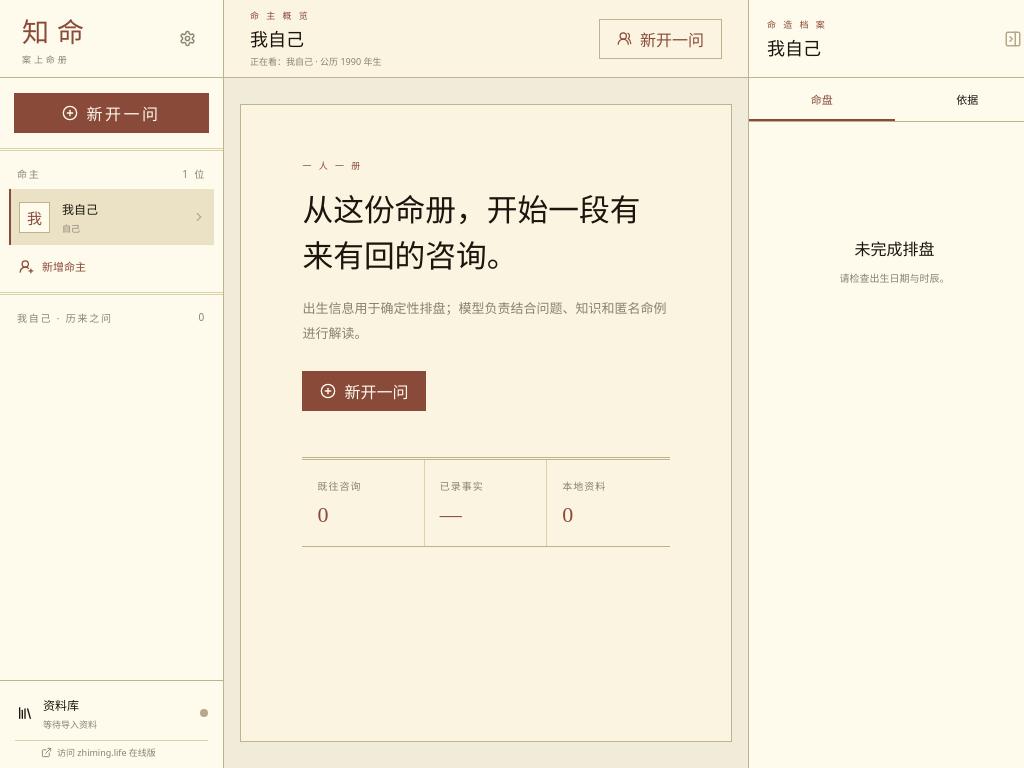
Test case: App › recovers from a failed consultation creation instead of staying busy
Click the button "新开一问" below "案上命册": coordinates (112, 113) [14,93,209,133]
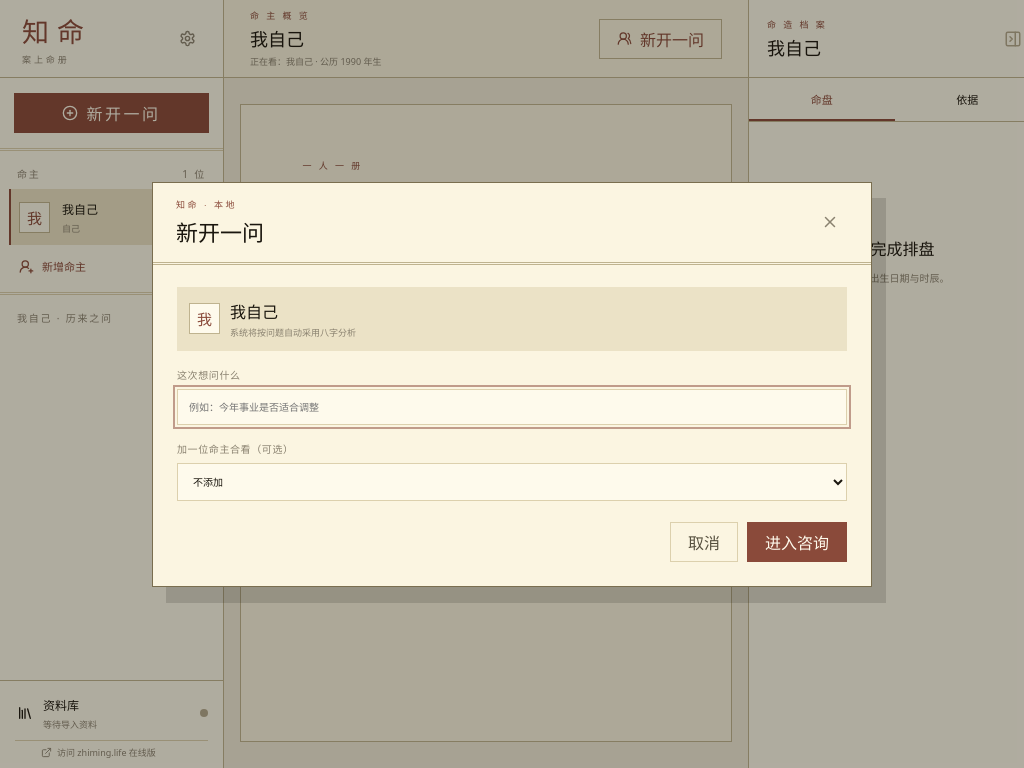
In the field labelled "这次想问什么": coordinates (512, 406) [177,388,847,424], type "事业调整"
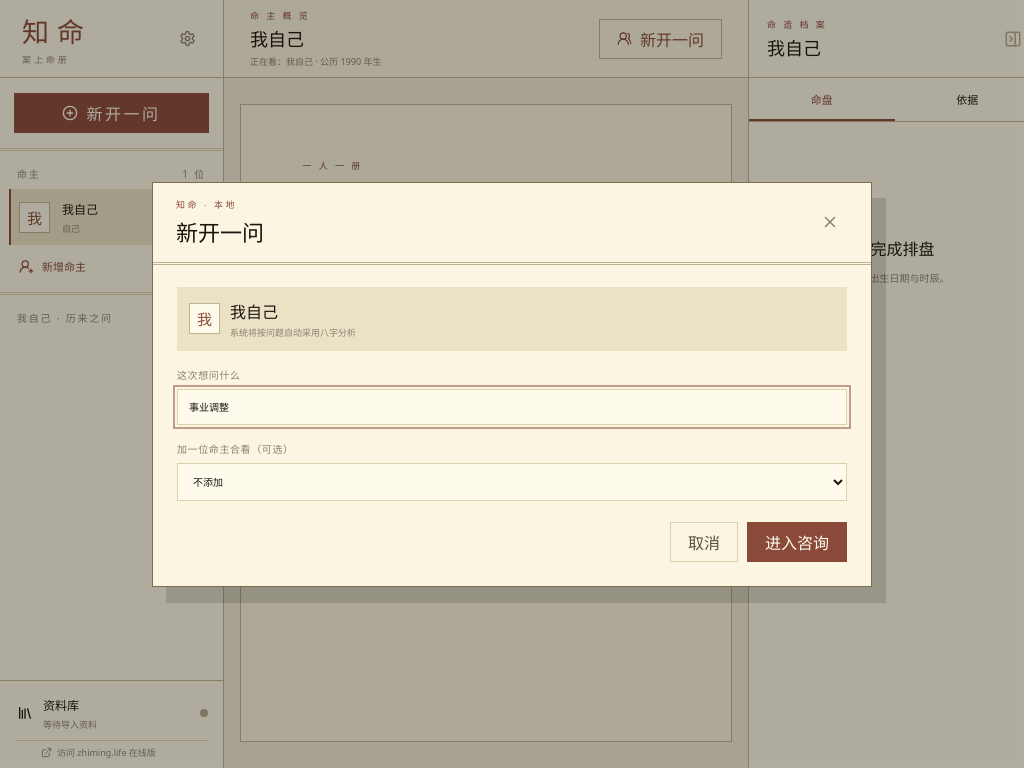
Click the button "进入咨询": coordinates (797, 542) [747,522,847,562]
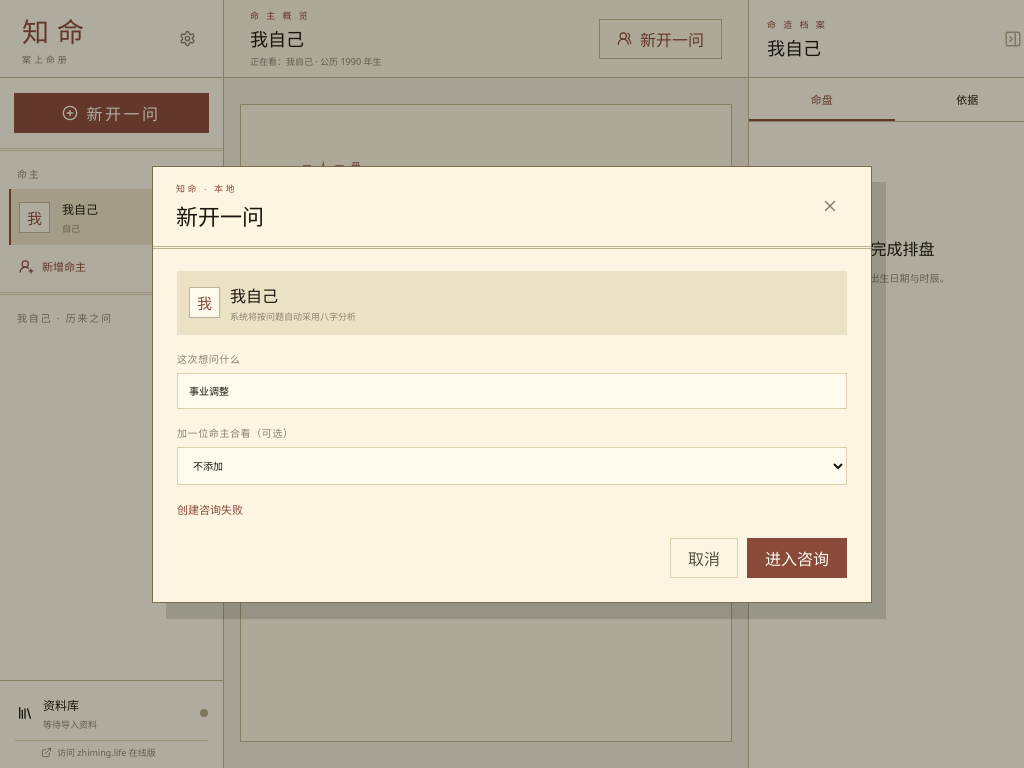
Now the button "进入咨询" is enabled, box [747,538,847,578]
Now the text "创建咨询失败" is shown, box [177,502,243,516]
